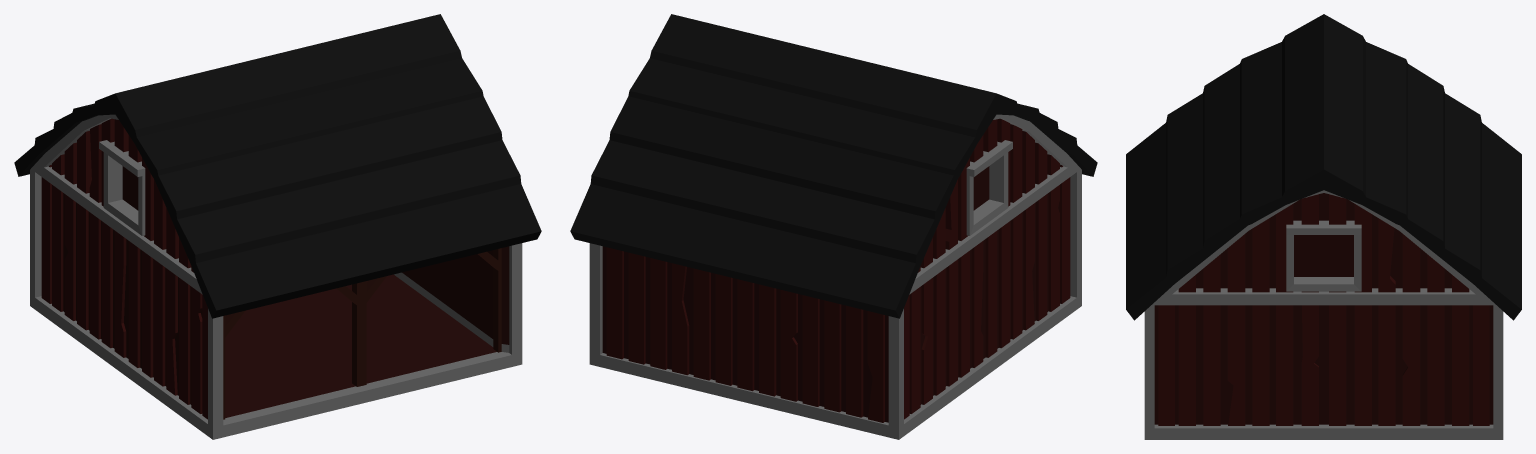
The model's file is OpenBarn.glb.
3 views of the same model, side by side, from view 1: azimuth 30°, elevation 25°; view 2: azimuth 150°, elevation 25°; view 3: azimuth 270°, elevation 25° (orthographic). The views are drawn at different scales.
Visible parts, largest first — view 1: world; view 2: world; view 3: world.
Boxes of the visible parts, box(x1,y1,x2,y2) form: world: box(14, 14, 541, 439); world: box(570, 14, 1097, 439); world: box(1126, 14, 1521, 439).
Size of the model in its own units: 5.74 by 4.74 by 6.18.
Materials: 1 (1 with a texture image).
